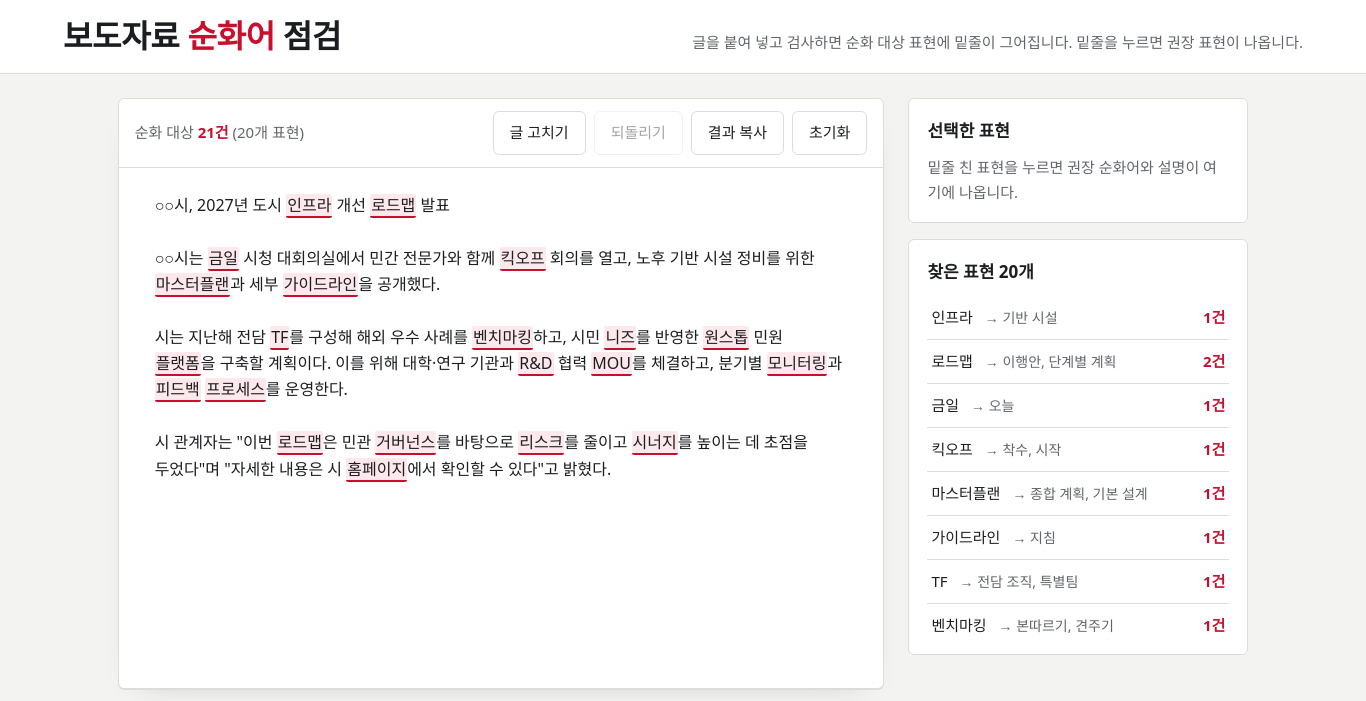
Test: 예시 글을 검사하고, 밑줄을 눌러 순화어로 바꾼다
The width and height of the screenshot is (1366, 701).
Expected: the element showing "순화 대상 21건 (20개 표현)" is shown, 135,120 -> 304,145
Click the text "인프라" next to "○○시, 2027년 도시": (309, 206) 286,194 -> 332,218
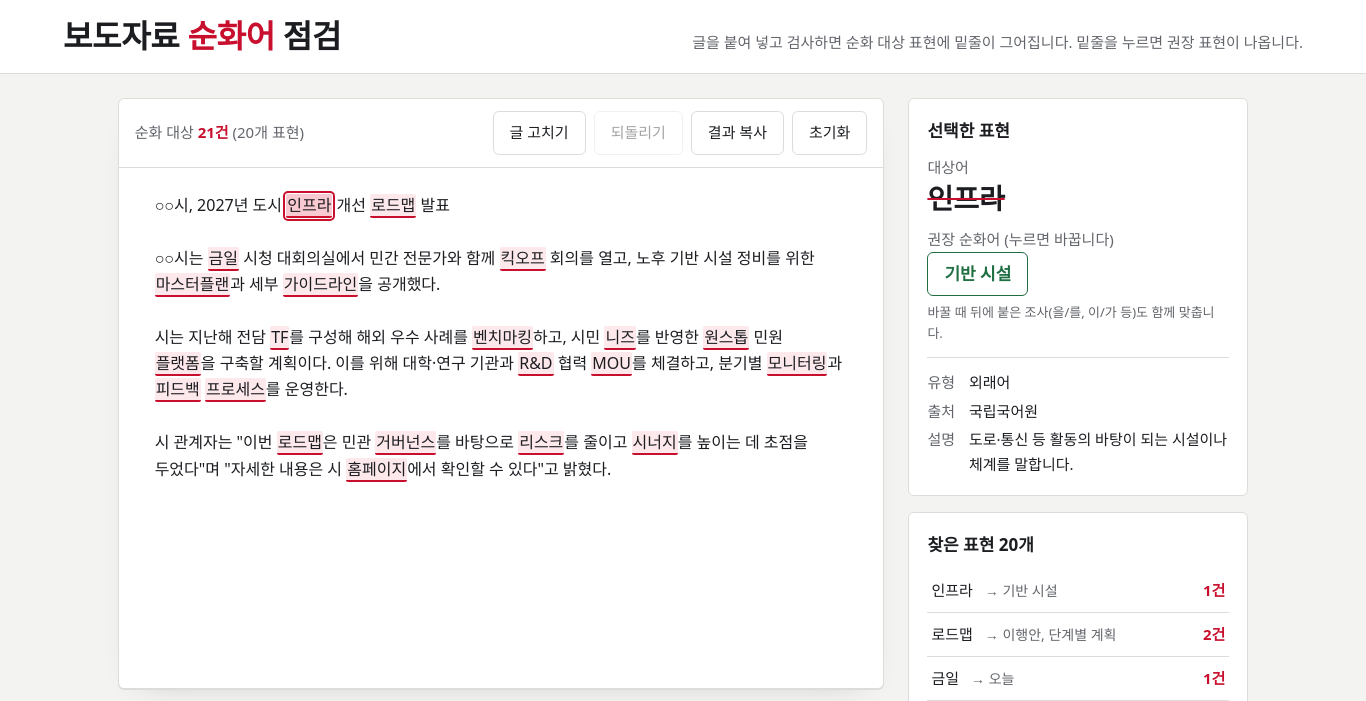
Result: the button "기반 시설" is shown
Click the button "기반 시설": (978, 274) 927,252 -> 1028,296
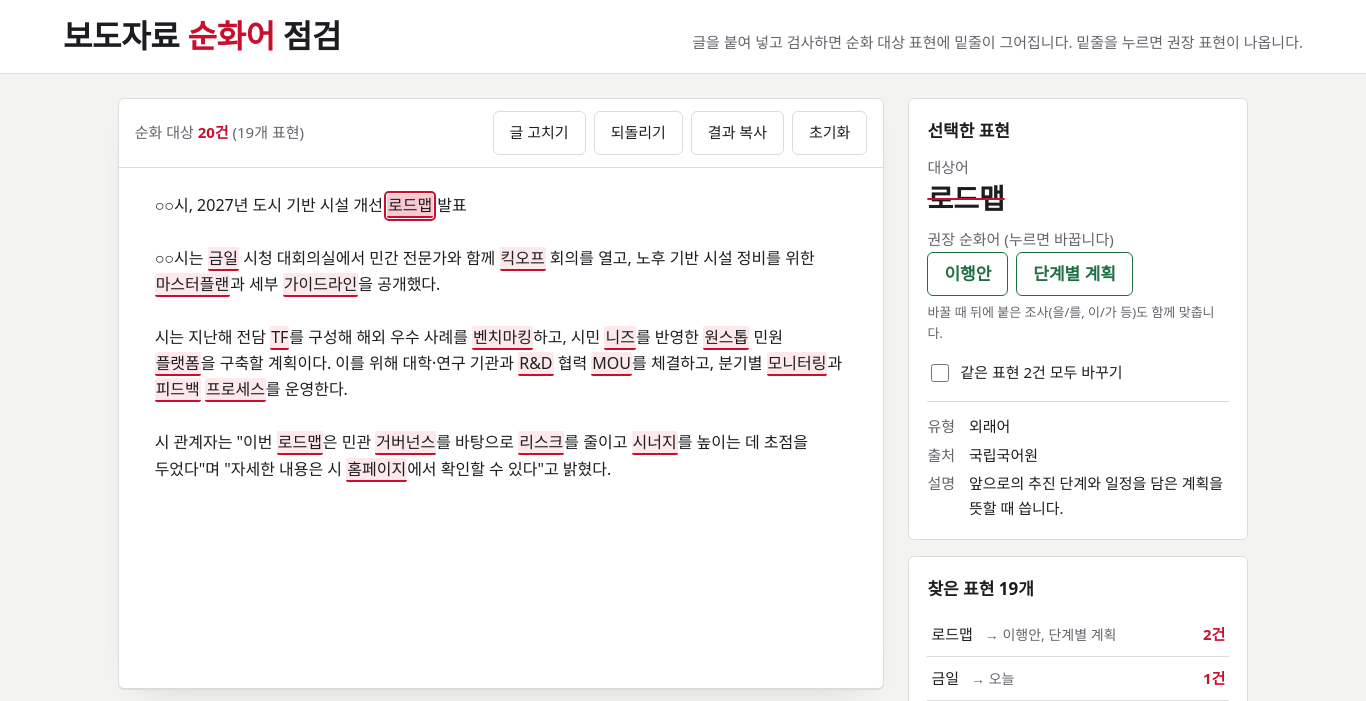
Result: the element with class "doc" shows "도시 기반 시설 개선" at 155,194 -> 387,216
Click the button "되돌리기": (638, 133) 594,111 -> 683,155
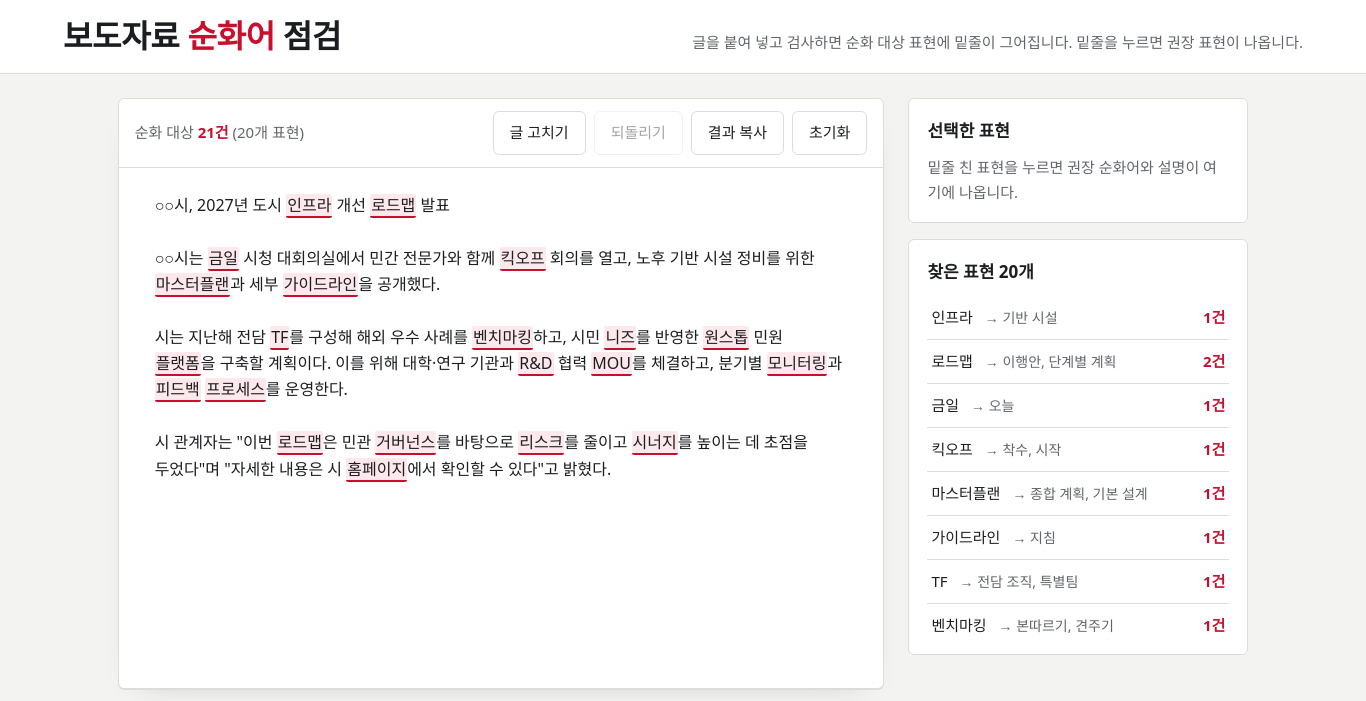
Result: the element with class "doc" shows "도시 인프라 개선" at 155,194 -> 846,482
